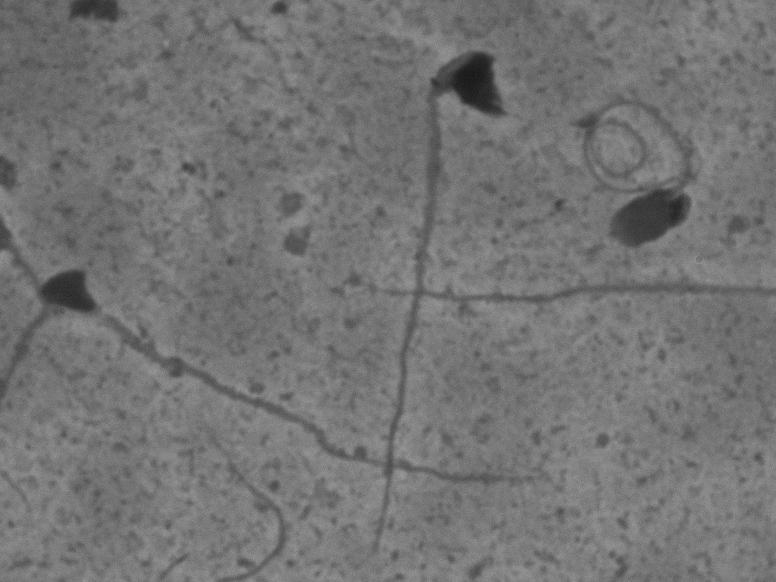Abnormal: (357, 15, 544, 520), (23, 237, 271, 432), (568, 69, 716, 264)
